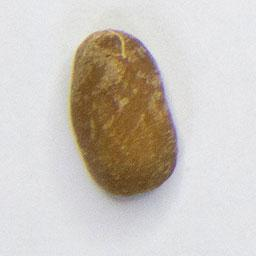defect: (67, 27, 180, 200)
